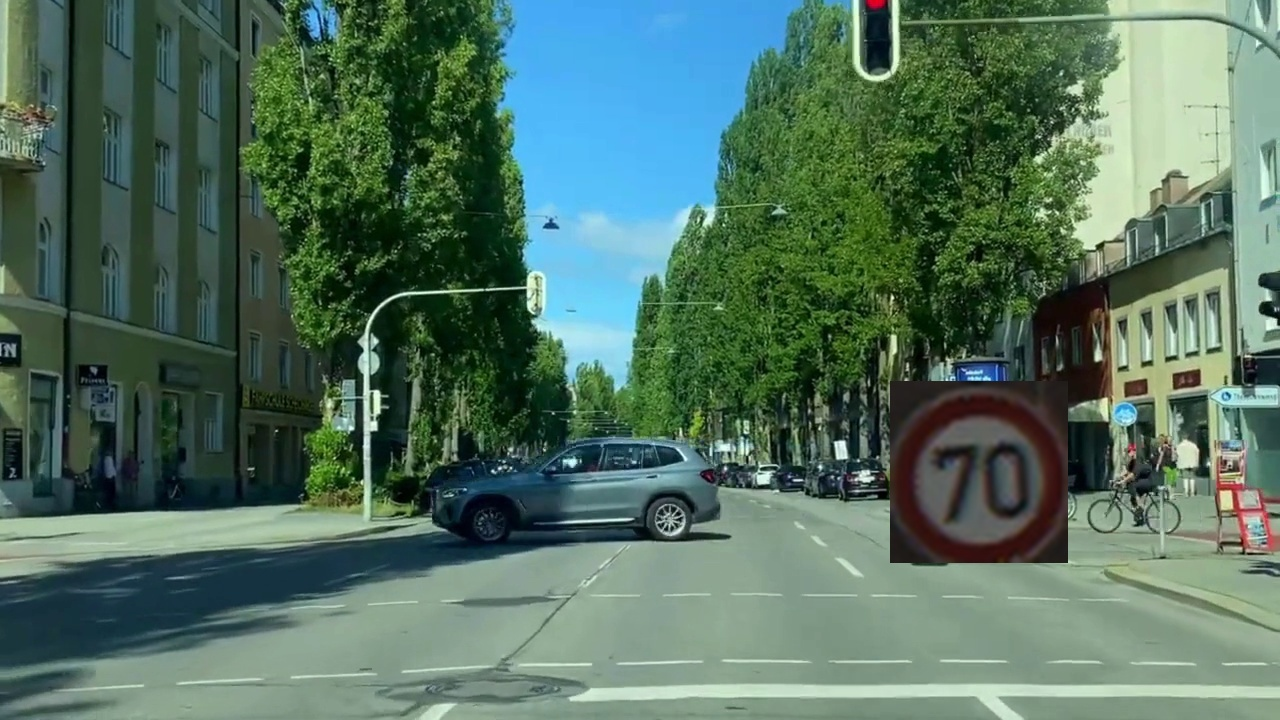Speed 70: (890, 381, 1068, 563)
